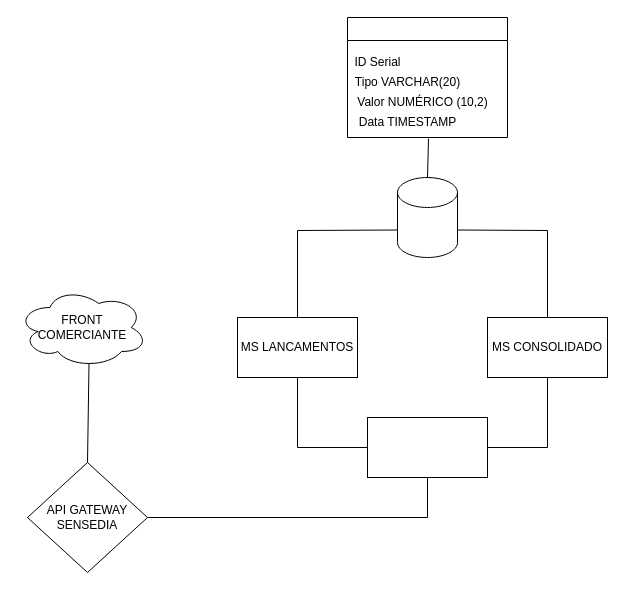
This 625x590 diagram has some shape labels left out. The box of each missing label's shape, as (x1, y1, x2, y2) in pixels:
BFF COMERCIANTE: (366, 416, 488, 478)
Transacoes: (346, 16, 508, 138)
